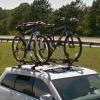Bicycle: (4, 12, 84, 70)
